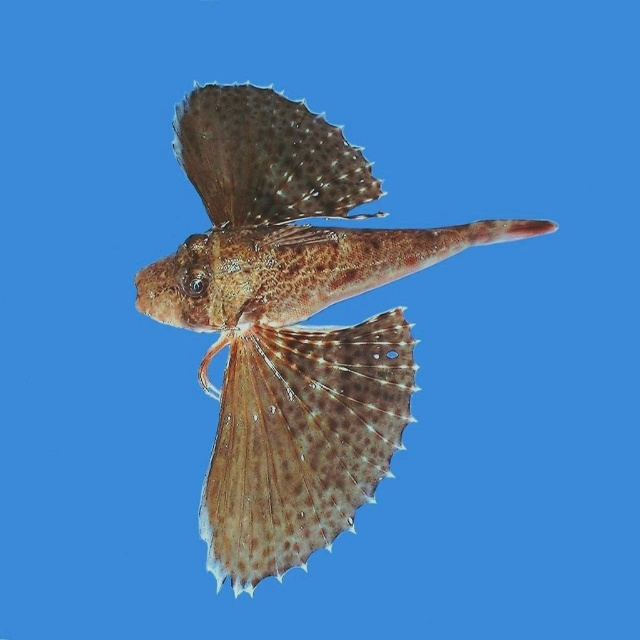Fish: (124, 106, 538, 582)
